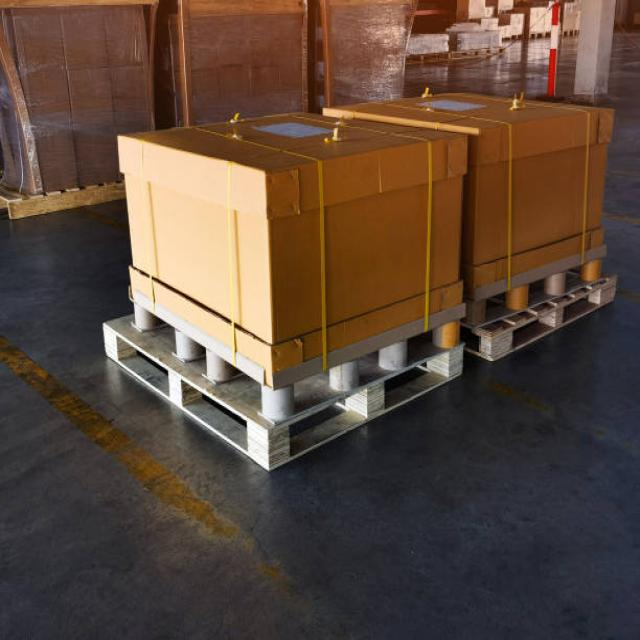Wooden-Pallets: (97, 316, 459, 479), (477, 272, 614, 382)
